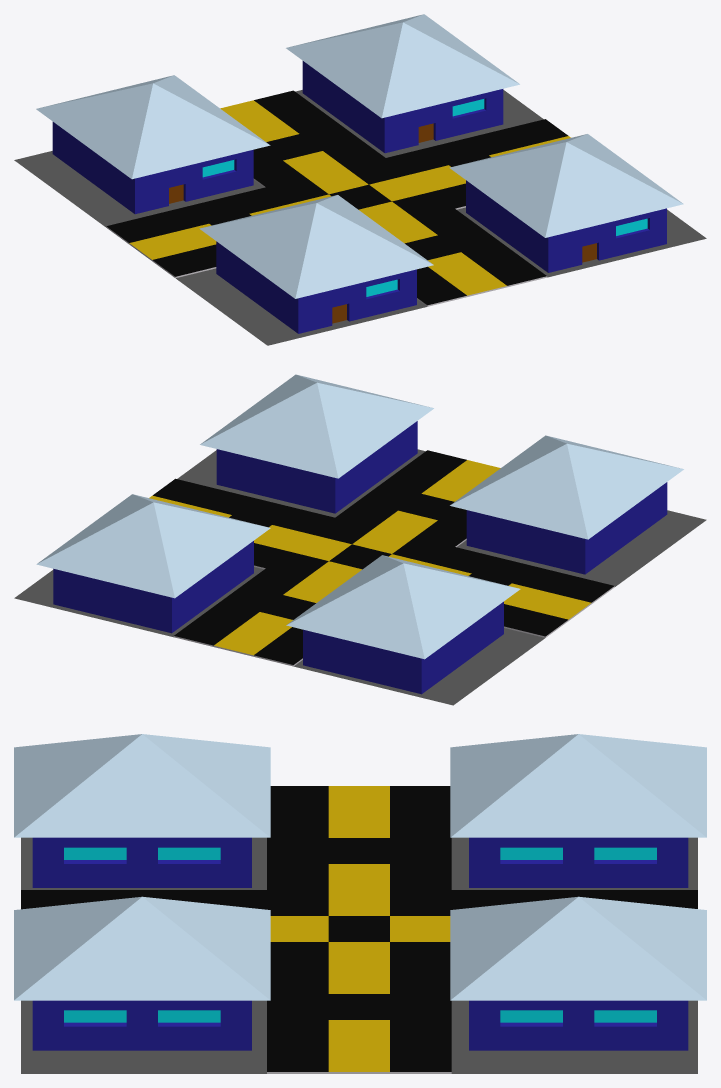
Rendered from houses.dae.
3 views of the same model, one above another, from view 1: azimuth 30°, elevation 25°; view 2: azimuth 150°, elevation 25°; view 3: azimuth 270°, elevation 25° (orthographic). The views are drawn at different scales.
Parts seen in each view (by area): view 1: Cube, Plane; view 2: Cube, Plane; view 3: Cube, Plane.
Part boxes in pixels (left/top/right/bottom): Cube: left=36, top=14, right=683, bottom=333; Plane: left=14, top=90, right=706, bottom=345; Cube: left=36, top=374, right=683, bottom=694; Plane: left=14, top=449, right=706, bottom=705; Cube: left=14, top=734, right=706, bottom=1050; Plane: left=21, top=786, right=697, bottom=1073.
Size of the model in its own units: 8 by 8.19 by 1.51.
